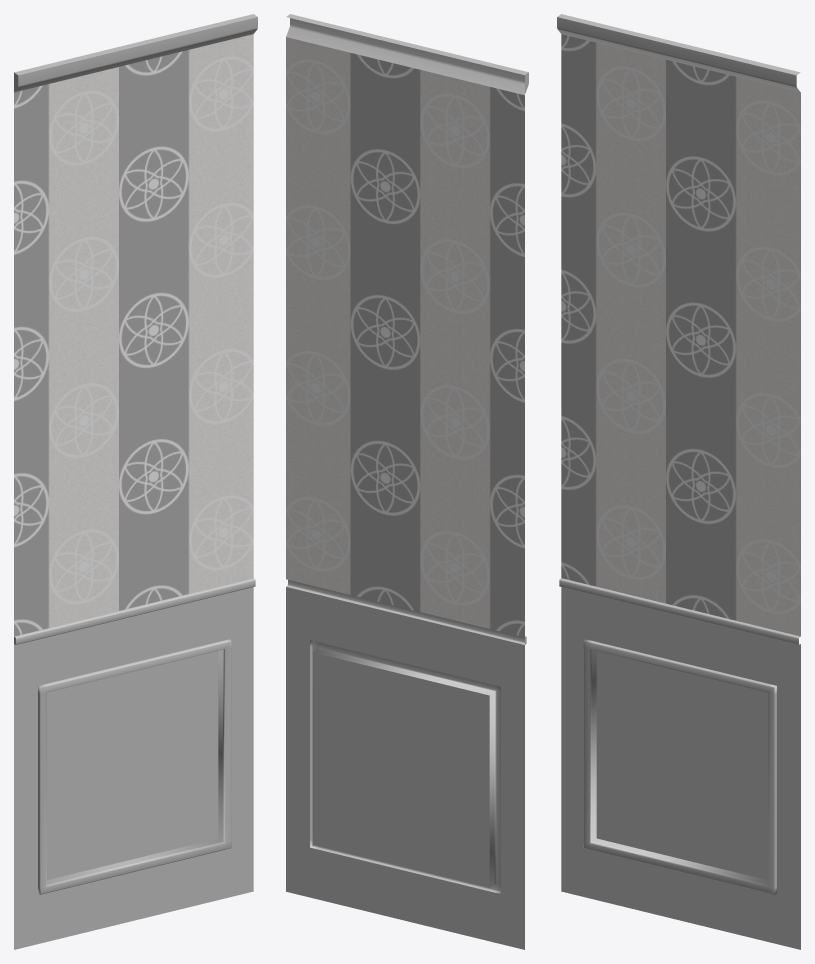
The model's file is WallNiche03_100cm.FBX.
The picture shows the model from 3 angles, left to right: view 1: azimuth 30°, elevation 25°; view 2: azimuth 150°, elevation 25°; view 3: azimuth 330°, elevation 25°; orthographic projection.
Visible parts, largest first — view 1: WallNiche03_100cm; view 2: WallNiche03_100cm; view 3: WallNiche03_100cm.
Part boxes in pixels (x1=…): WallNiche03_100cm: x1=14, y1=14, x2=257, y2=949; WallNiche03_100cm: x1=286, y1=14, x2=528, y2=949; WallNiche03_100cm: x1=557, y1=14, x2=800, y2=949.
Bounding box in the file's own units: 1000 × 3500 × 60.
